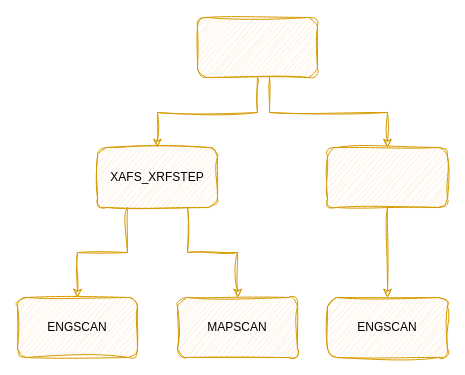
Some shapes in this 465 by 375 pixel diagram are drawn without their labels. Each missing label, with the centre of its shape:
"XAFS_XRF" belongs at pixel 257 47.
"XAFS_XRFCONT" belongs at pixel 387 177.
